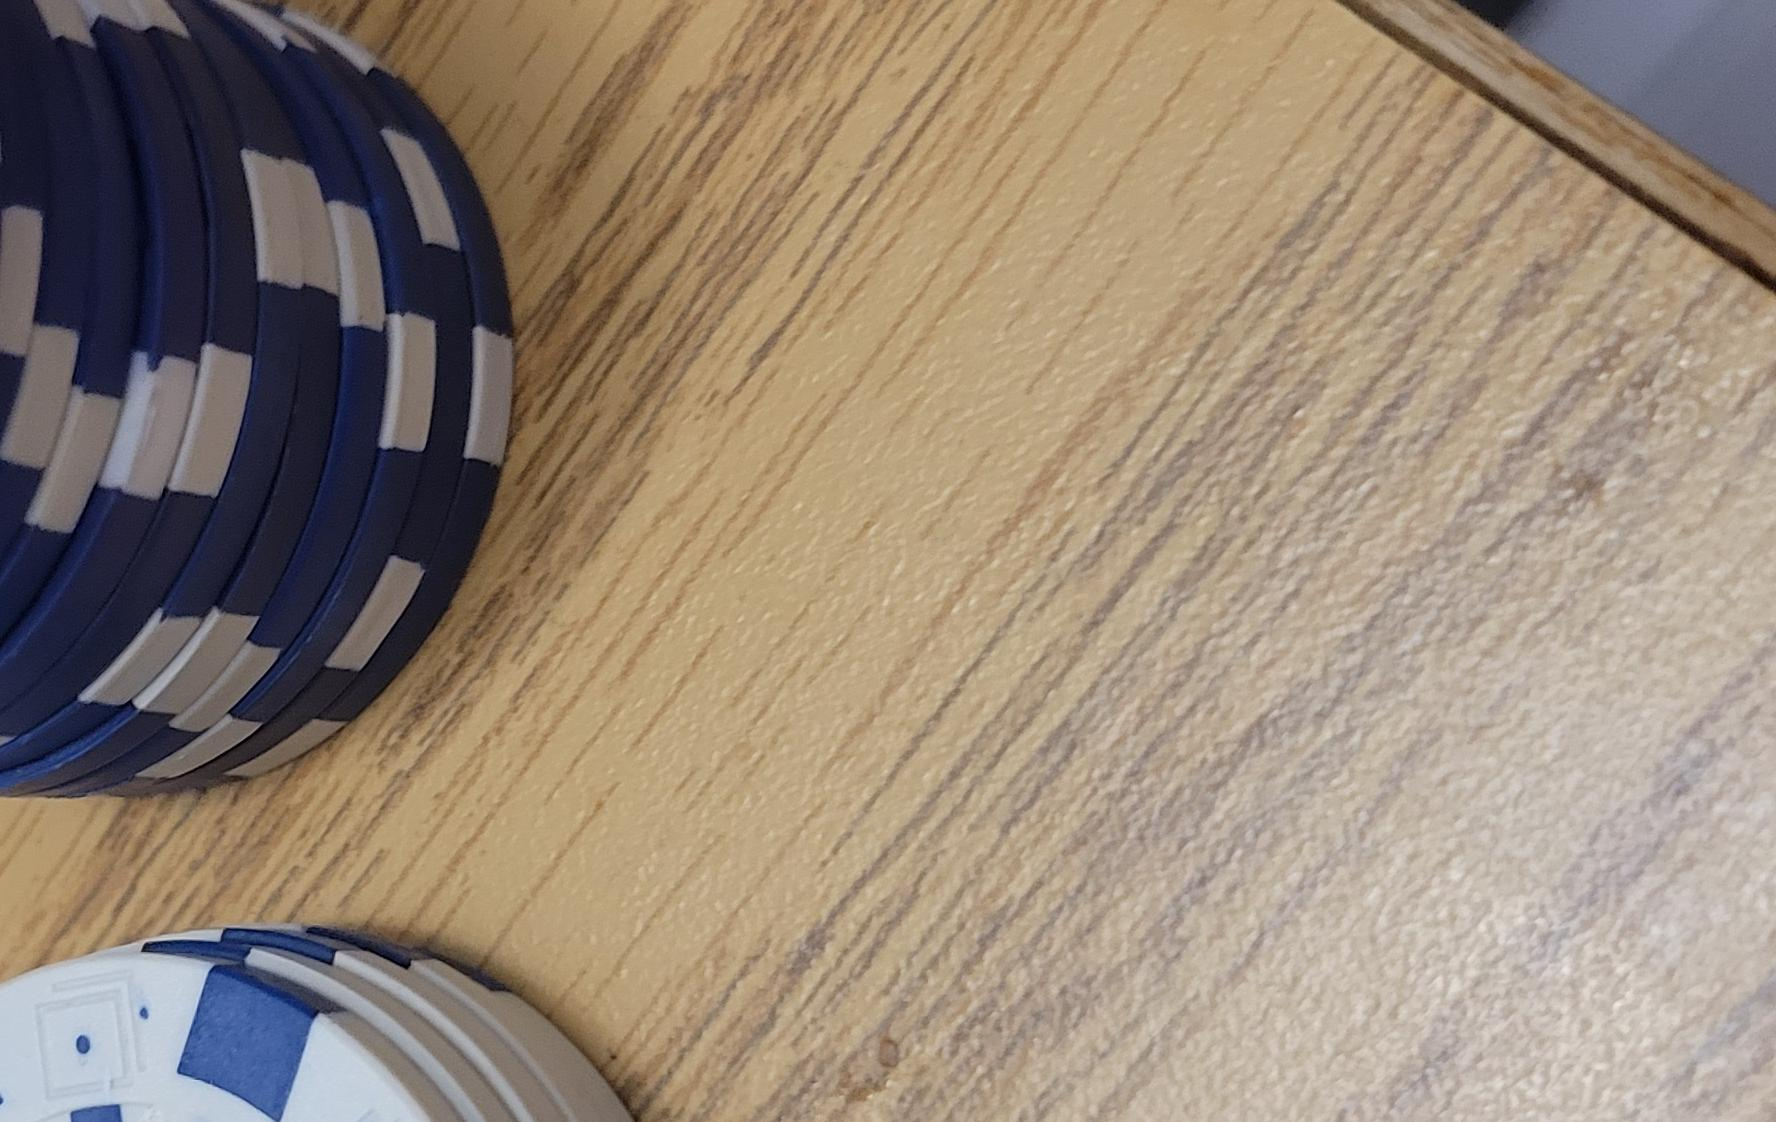Chip: (1, 238, 871, 1122)
